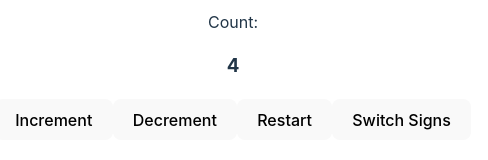
it: Counter › counter should switch signs if the switch signs button is clicked
The image size is (488, 160).
Expected: the heading with test id "count" reads "4", [227, 54, 239, 77]
Click the button "Switch Signs" at {"x": 402, "y": 120}, box [332, 99, 471, 140]
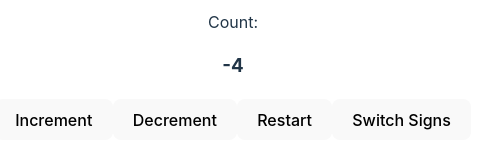
Expected: the heading with test id "count" reads "-4", [222, 54, 244, 77]
